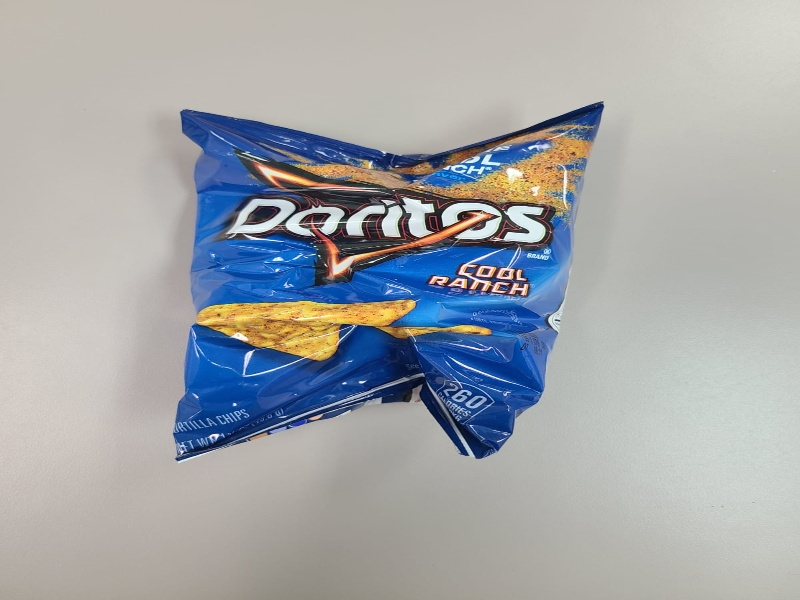doritos: (171, 98, 606, 468)
